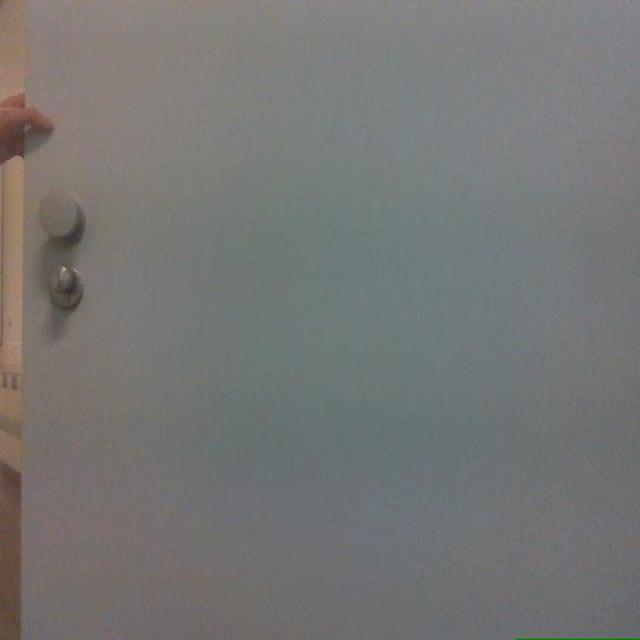humans: (0, 92, 53, 164)
objects: (22, 0, 639, 639)
